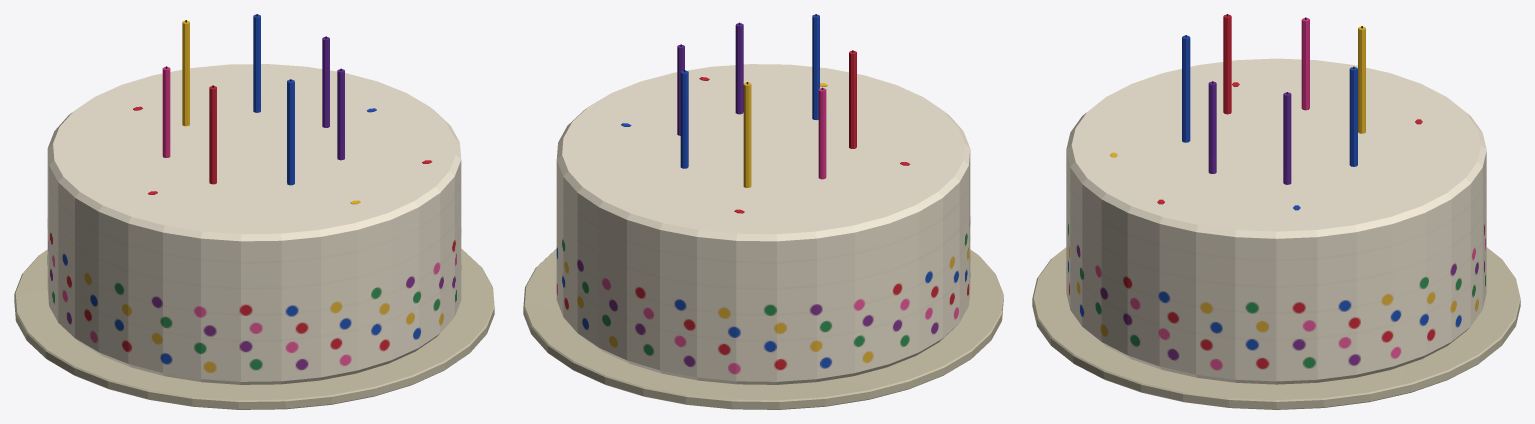
File: party_cake_unlit.glb
3 renders of one model, left to right at view 1: azimuth 30°, elevation 25°; view 2: azimuth 150°, elevation 25°; view 3: azimuth 270°, elevation 25°, orthographic.
Visible parts, largest first — view 1: party_cake_unlit; view 2: party_cake_unlit; view 3: party_cake_unlit.
Part boxes in pixels (box(x1,y1,x2,y2)): party_cake_unlit: box(14, 14, 494, 409); party_cake_unlit: box(523, 14, 1003, 409); party_cake_unlit: box(1032, 14, 1520, 409).
Bounding box in the file's own units: 0.36 × 0.218 × 0.36.
Materials: 2 (2 with a texture image).
